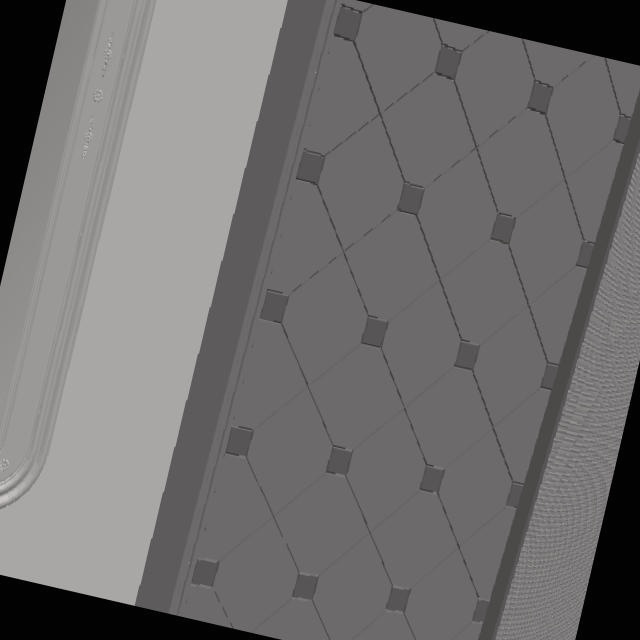wardrobe: (134, 0, 640, 640)
